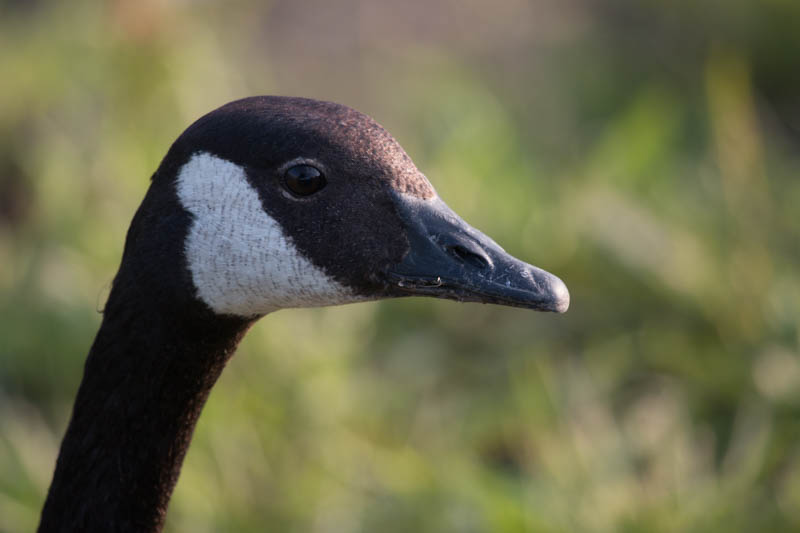goose-head: (131, 97, 569, 322)
